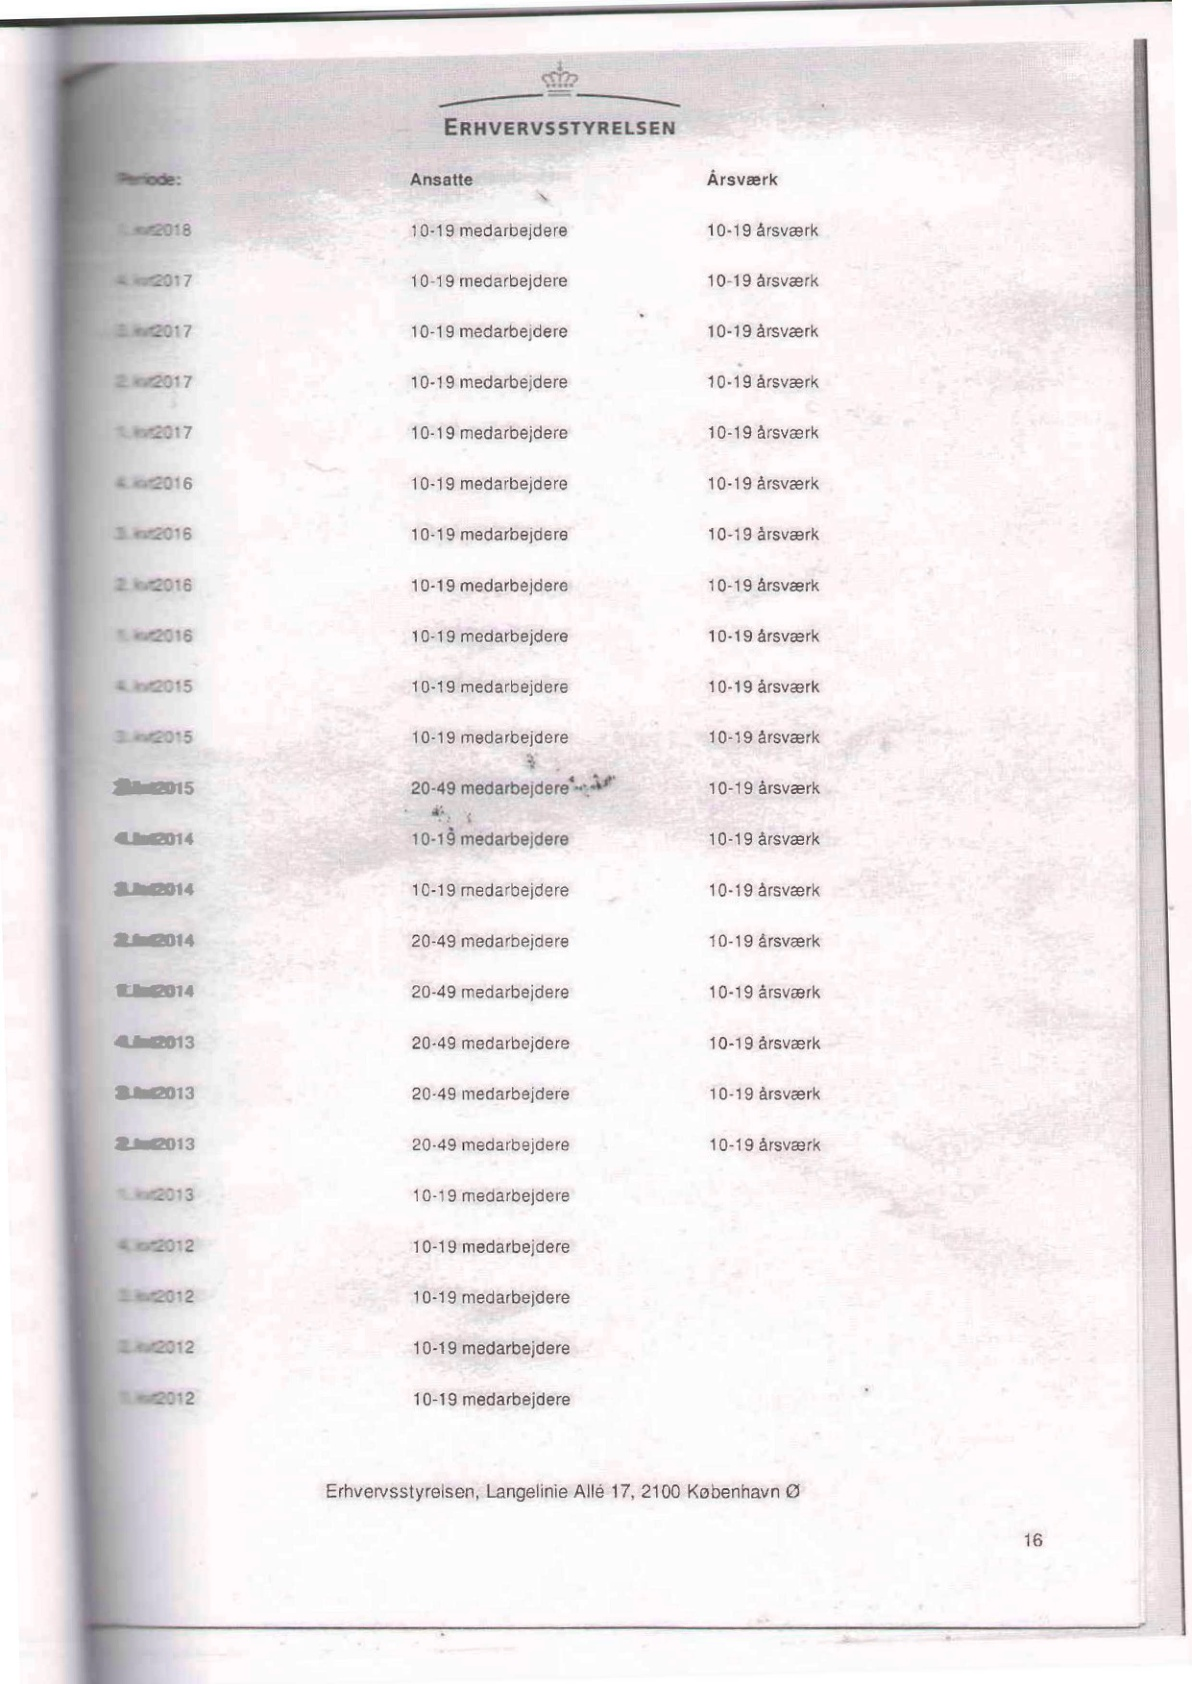nolines: (108, 168, 826, 1421)
